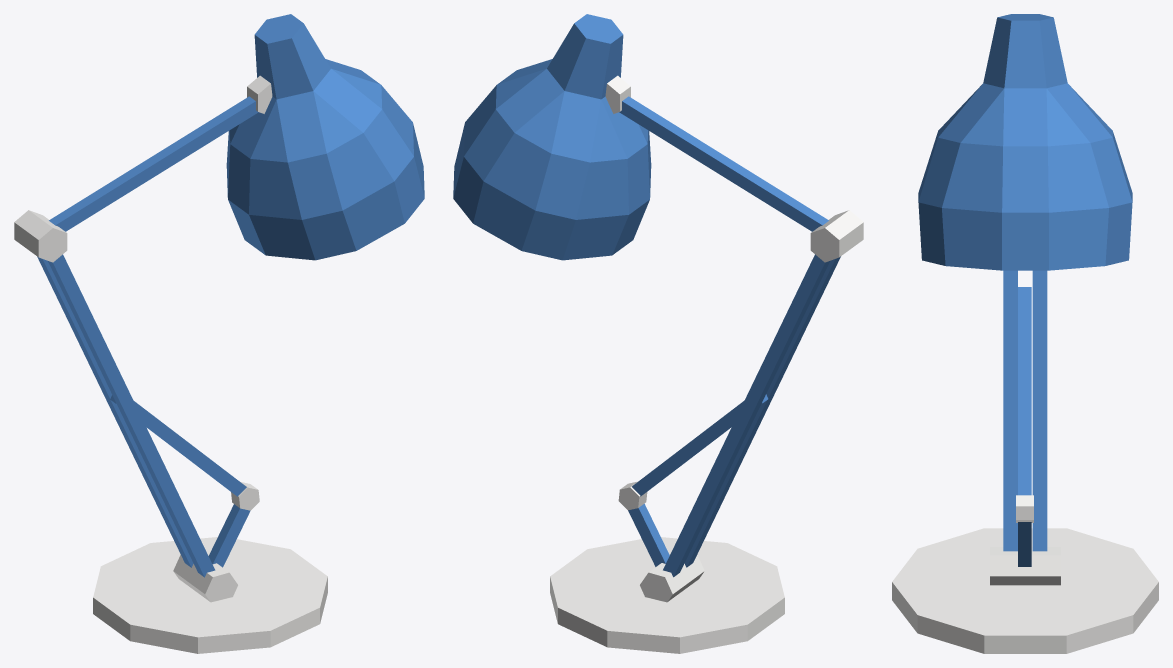
File: Childroom2_tablelamp.fbx
3 renders of one model, left to right at view 1: azimuth 30°, elevation 25°; view 2: azimuth 150°, elevation 25°; view 3: azimuth 270°, elevation 25°, orthographic. The views are drawn at different scales.
Parts seen in each view (by area): view 1: Childroom2_tablelamp; view 2: Childroom2_tablelamp; view 3: Childroom2_tablelamp.
Part boxes in pixels (bbox=[...]): Childroom2_tablelamp: bbox=[14, 14, 424, 653]; Childroom2_tablelamp: bbox=[453, 14, 863, 653]; Childroom2_tablelamp: bbox=[892, 14, 1158, 653].
Bounding box in the file's own units: 46.24 × 64.42 × 24.86.
